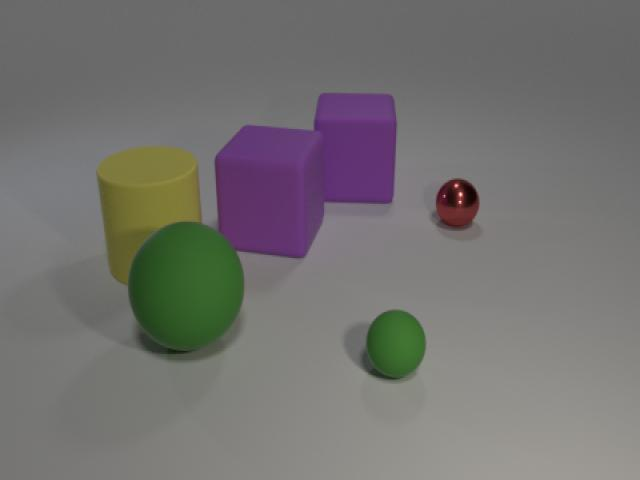cylinder: (91, 133, 205, 290)
round ball: (121, 216, 252, 356), (362, 306, 432, 387), (433, 168, 486, 240)
